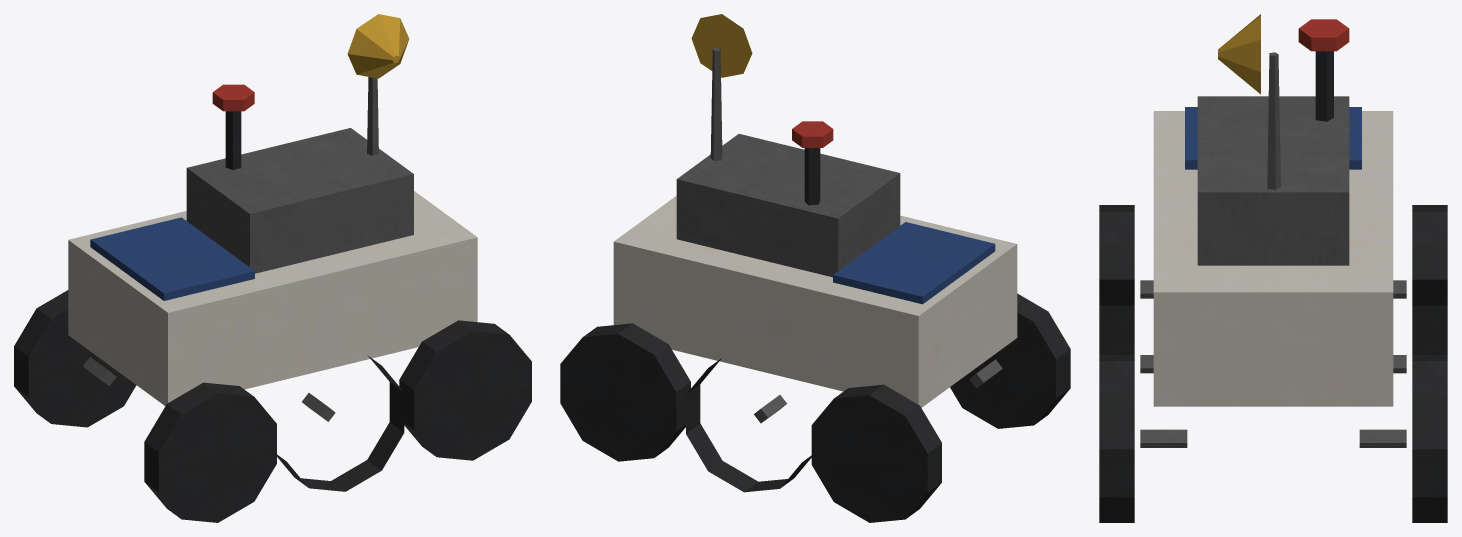
File: rover_01.glb
3 renders of one model, left to right at view 1: azimuth 30°, elevation 25°; view 2: azimuth 150°, elevation 25°; view 3: azimuth 270°, elevation 25°, orthographic. The views are drawn at different scales.
Visible parts, largest first — view 1: rover_01; view 2: rover_01; view 3: rover_01.
Part boxes in pixels (<box>): rover_01: <box>14,14,531,522</box>; rover_01: <box>560,14,1070,522</box>; rover_01: <box>1099,14,1447,522</box>.
Size of the model in its own units: 2.05 by 2.12 by 1.38.
Materials: 6 (6 with a texture image).
